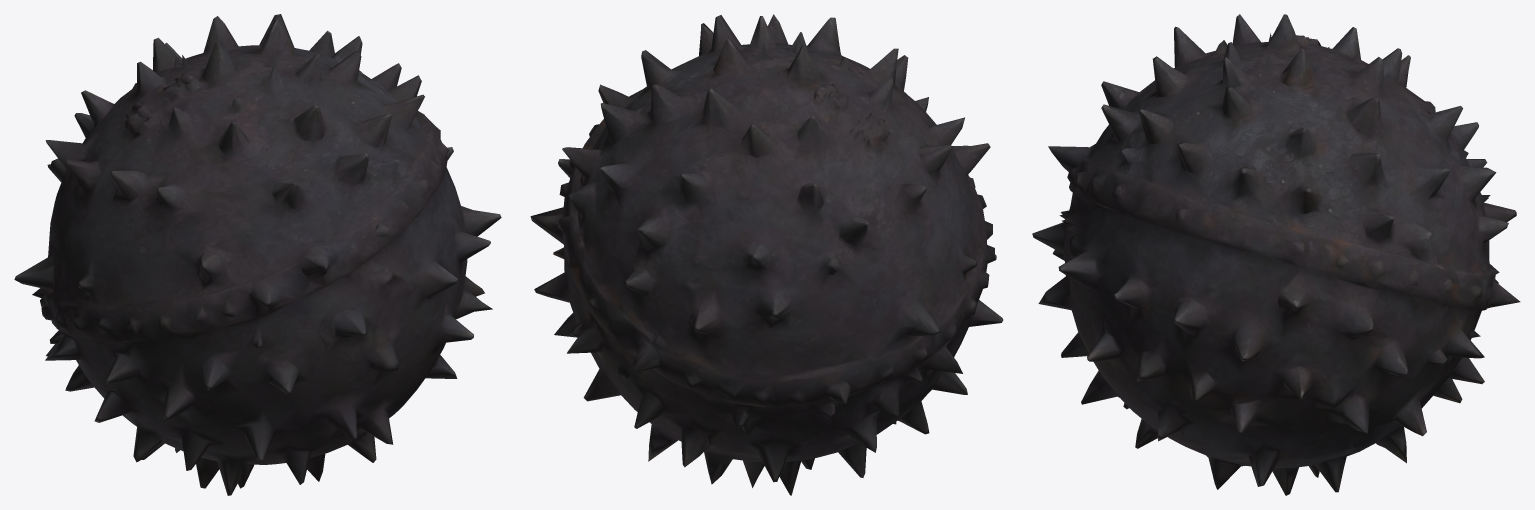
The model's file is spiked_ball.glb.
The picture shows the model from 3 angles, left to right: view 1: azimuth 30°, elevation 25°; view 2: azimuth 150°, elevation 25°; view 3: azimuth 270°, elevation 25°; orthographic projection.
Parts seen in each view (by area): view 1: tripo_node_0e990ad5-9d8a-43fe-8401-a291861b1ddc; view 2: tripo_node_0e990ad5-9d8a-43fe-8401-a291861b1ddc; view 3: tripo_node_0e990ad5-9d8a-43fe-8401-a291861b1ddc.
Boxes of the visible parts, x1,y1,x2,y2 form: tripo_node_0e990ad5-9d8a-43fe-8401-a291861b1ddc: (14, 14, 501, 495); tripo_node_0e990ad5-9d8a-43fe-8401-a291861b1ddc: (530, 14, 1003, 495); tripo_node_0e990ad5-9d8a-43fe-8401-a291861b1ddc: (1032, 14, 1520, 495).
Bounding box in the file's own units: 0.9894 × 1 × 0.9899.
1 material, 1 textured.
